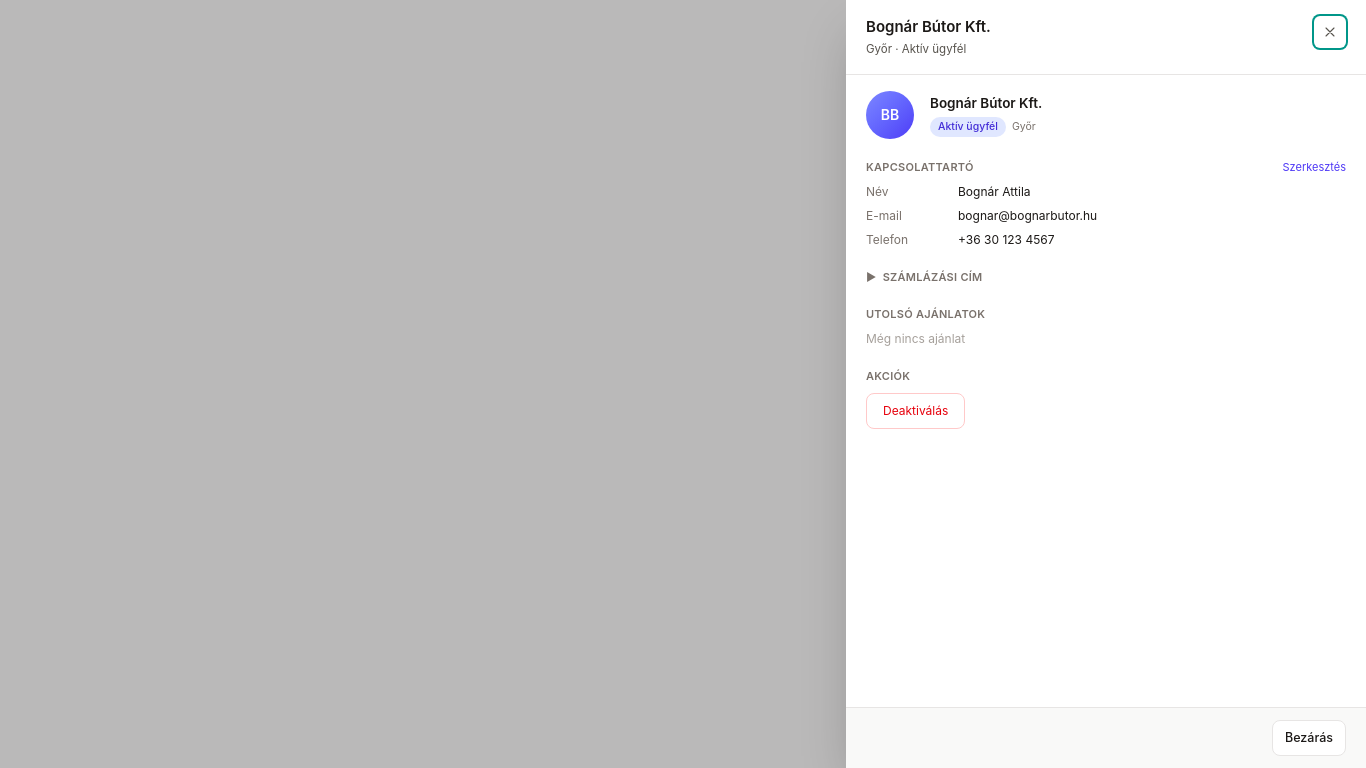
Scenario: CustomerDetailSlideOver › entering edit mode shows Mentés button
Click the button "Szerkesztés". click: (1314, 167)
box: [1282,159,1346,175]
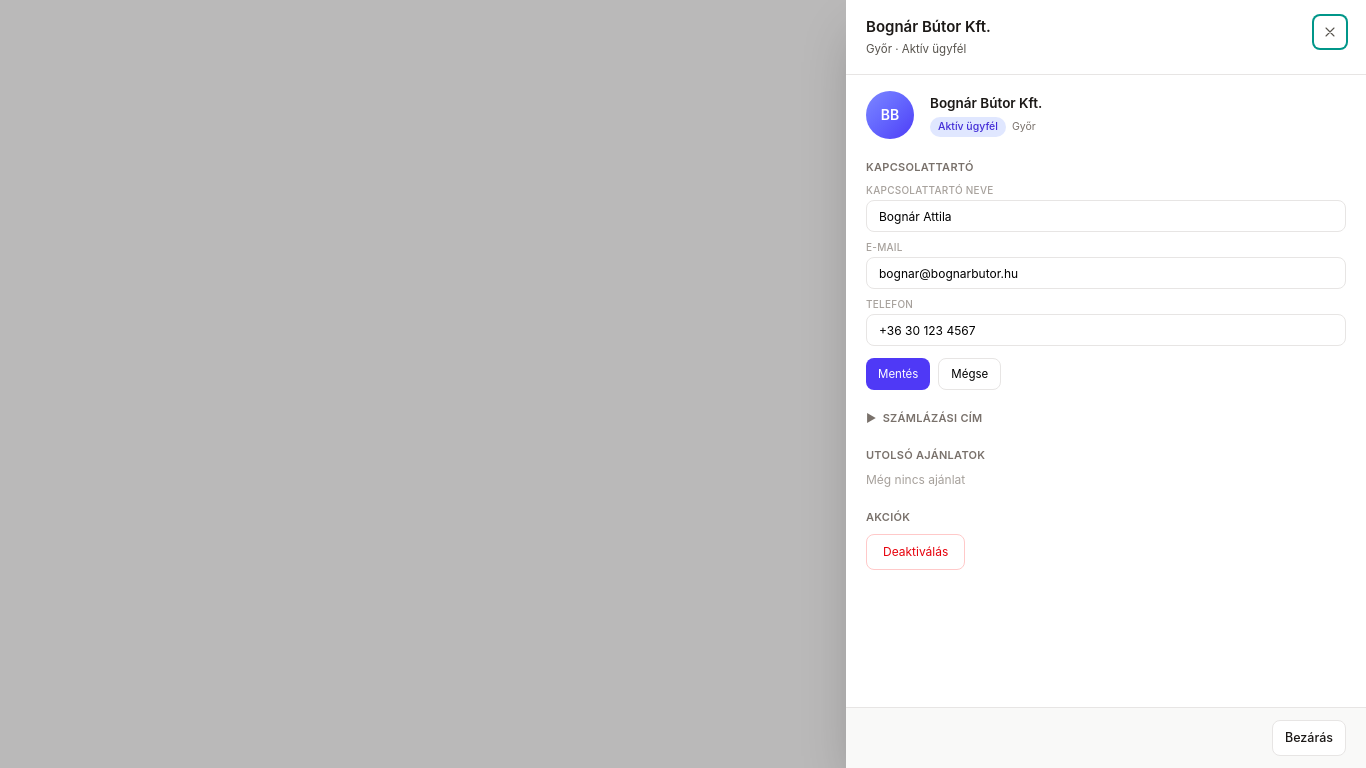
Expected: the button "Mentés" is shown, [866,358,930,390]
